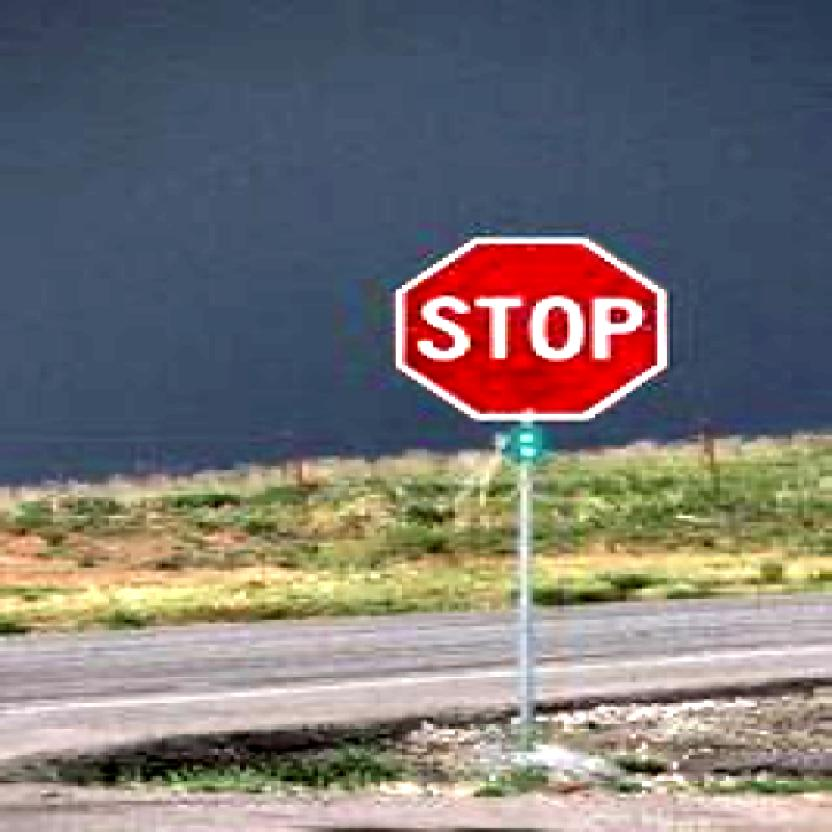Pole: (512, 465, 540, 755)
Sign: (392, 234, 672, 423)
